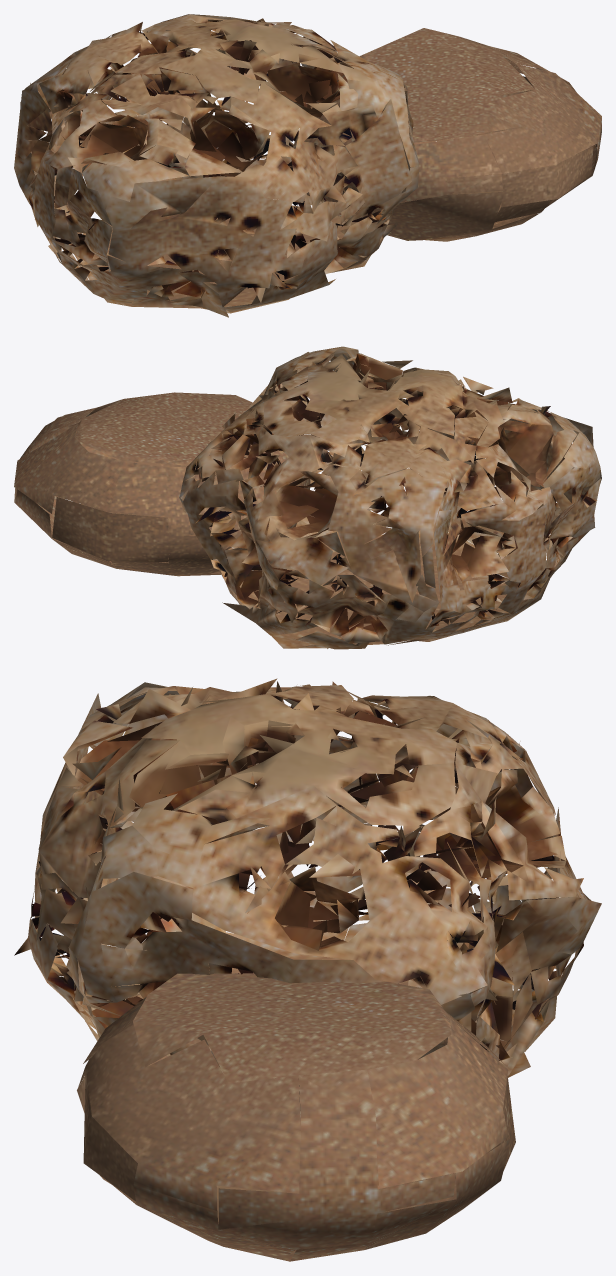
File: desert_pebble_b_pair.glb
3 renders of one model, top to bottom at view 1: azimuth 30°, elevation 25°; view 2: azimuth 150°, elevation 25°; view 3: azimuth 270°, elevation 25°, orthographic. The views are drawn at different scales.
Visible parts, largest first — view 1: desert_pebble_b_pair; view 2: desert_pebble_b_pair; view 3: desert_pebble_b_pair.
Boxes of the visible parts, x1=… form: desert_pebble_b_pair: x1=14, y1=14, x2=601, y2=317; desert_pebble_b_pair: x1=14, y1=346, x2=601, y2=649; desert_pebble_b_pair: x1=14, y1=678, x2=601, y2=1261.
Size of the model in its own units: 2.36 by 0.9639 by 1.51.
Materials: 2 (2 with a texture image).
